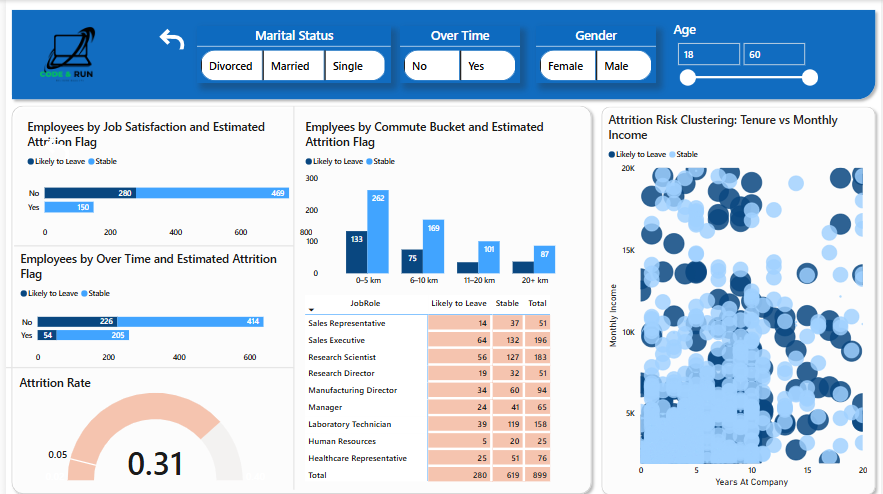

The dashboard page shown, as its layout file describes it:
{"tool":"powerbi","page":{"name":"Drivers of Attrition","canvas":[1400,800],"ordinal":1},"visuals":[{"type":"shape","box":[0,6.7,1400,161.7],"z":0},{"type":"shape","box":[0,160.7,945.7,639.3],"z":1000},{"type":"shape","box":[944.2,160.8,455.8,639.2],"z":2000},{"type":"image","box":[0,0,204,188],"z":3000},{"type":"barChart","title":"Employees by Job Satisfaction and Estimated Attrition Flag","fields":{"Category":["Dataset.Job Satisfaction"],"Series":["Dataset.Estimated Attrition Flag"],"Y":["CountNonNull(Dataset.Participant)"]},"box":[28.6,188.6,465.7,201.4],"z":4000},{"type":"barChart","title":"Employees by Over Time and Estimated Attrition Flag","fields":{"Category":["Dataset.Over Time"],"Series":["Dataset.Estimated Attrition Flag"],"Y":["CountNonNull(Dataset.Participant)"]},"box":[17.1,400,444.3,190],"z":5000},{"type":"clusteredColumnChart","title":"Emplyees by Commute Bucket and Estimated Attrition Flag","fields":{"Category":["Dataset.Commute Bucket"],"Y":["CountNonNull(Dataset.Participant)"],"Series":["Dataset.Estimated Attrition Flag"]},"box":[472.9,188.6,448.6,278.6],"z":6000},{"type":"pivotTable","fields":{"Rows":["Dataset.JobRole"],"Columns":["Dataset.Estimated Attrition Flag"],"Values":["CountNonNull(Dataset.Participant)"]},"box":[472.9,467.1,471.4,315.7],"z":7000},{"type":"scatterChart","title":"Attrition Risk Clustering: Tenure vs Monthly Income","fields":{"X":["Dataset.Years At Company"],"Y":["Dataset.Monthly Income"],"Series":["Dataset.Estimated Attrition Flag"],"Size":["Sum(Dataset.Attrition Risk Score)"]},"box":[958.6,177.1,424.3,605.7],"z":8000},{"type":"shape","box":[434,169.3,54,614],"z":9000},{"type":"advancedSlicerVisual","title":"Marital Status","fields":{"Values":["Dataset.Marital Status"]},"box":[306,42,310,92],"z":10000},{"type":"gauge","title":"Attrition Rate","fields":{"Y":["Dataset.Attrition Rate %"],"MinValue":["Dataset.Minimum Attrition"],"MaxValue":["Dataset.Maximum Attrition"],"TargetValue":["Dataset.Target Attrition Rate"]},"box":[15.6,598.9,445.6,180],"z":11000},{"type":"shape","box":[13.3,387.8,447.8,12.2],"z":12000},{"type":"shape","box":[0,577.8,461.1,21.1],"z":13000},{"type":"advancedSlicerVisual","fields":{"Values":["Dataset.Over Time"]},"box":[630,42,192,92],"z":14000},{"type":"actionButton","box":[230,32,102,56],"z":15000},{"type":"actionButton","box":[45.7,205.7,102.9,57.1],"z":16000},{"type":"advancedSlicerVisual","fields":{"Values":["Dataset.Gender"]},"box":[848,42,192,92],"z":17000},{"type":"slicer","title":"Age","fields":{"Values":["Dataset.Age"]},"box":[1061.7,31.7,245,113.3],"z":18000}]}

Visuals, with their boxes in screenshot pixels (x1, y1, x2, y2), scaled from the page's 1400x800 canvas onto the 883x494 screenshot:
shape: (0,4,882,104)
shape: (0,99,596,493)
shape: (596,99,882,493)
image: (0,0,129,116)
"Employees by Job Satisfaction and Estimated Attrition Flag" barChart: (18,116,312,241)
"Employees by Over Time and Estimated Attrition Flag" barChart: (11,247,291,364)
"Emplyees by Commute Bucket and Estimated Attrition Flag" clusteredColumnChart: (298,116,581,288)
pivotTable - Dataset.JobRole x Dataset.Estimated Attrition Flag: (298,288,596,483)
"Attrition Risk Clustering: Tenure vs Monthly Income" scatterChart: (605,109,872,483)
shape: (274,105,308,484)
"Marital Status" advancedSlicerVisual: (193,26,389,83)
"Attrition Rate" gauge: (10,370,291,481)
shape: (8,239,291,247)
shape: (0,357,291,370)
advancedSlicerVisual - Dataset.Over Time: (397,26,518,83)
actionButton: (145,20,209,54)
actionButton: (29,127,94,162)
advancedSlicerVisual - Dataset.Gender: (535,26,656,83)
"Age" slicer: (670,20,824,90)
